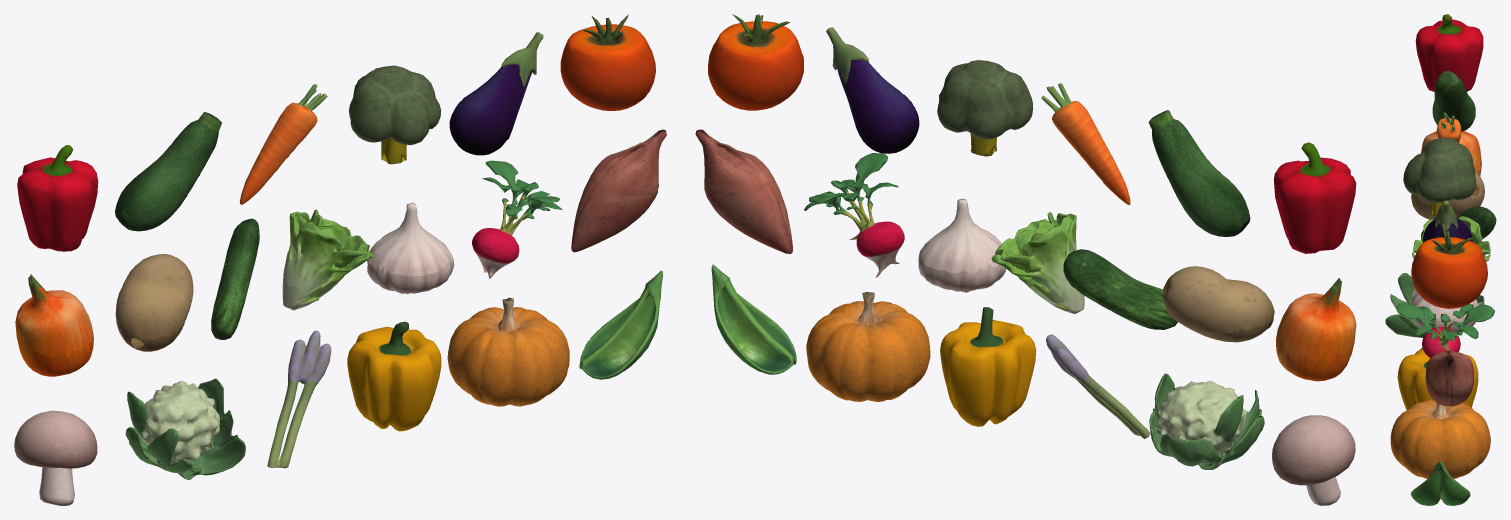
The picture shows the model from 3 angles, left to right: view 1: azimuth 30°, elevation 25°; view 2: azimuth 150°, elevation 25°; view 3: azimuth 270°, elevation 25°; orthographic projection. The views are drawn at different scales.
Parts seen in each view (by area): view 1: part_0_body_0; view 2: part_0_body_0; view 3: part_0_body_0.
Part boxes in pixels (bbox=[...]): part_0_body_0: bbox=[14, 14, 666, 505]; part_0_body_0: bbox=[695, 14, 1356, 505]; part_0_body_0: bbox=[1385, 14, 1496, 505].
Size of the model in its own units: 0.9999 by 0.5246 by 0.1854.
5 materials, 4 textured.
